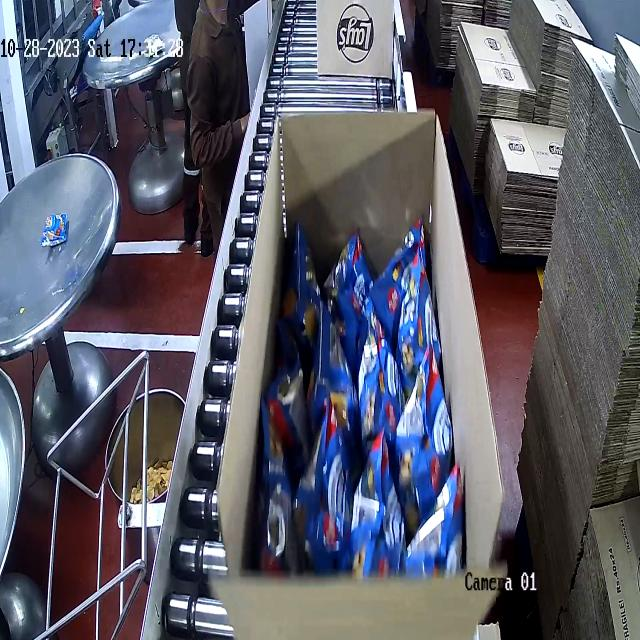PAPRIKA: (278, 216, 463, 560)
